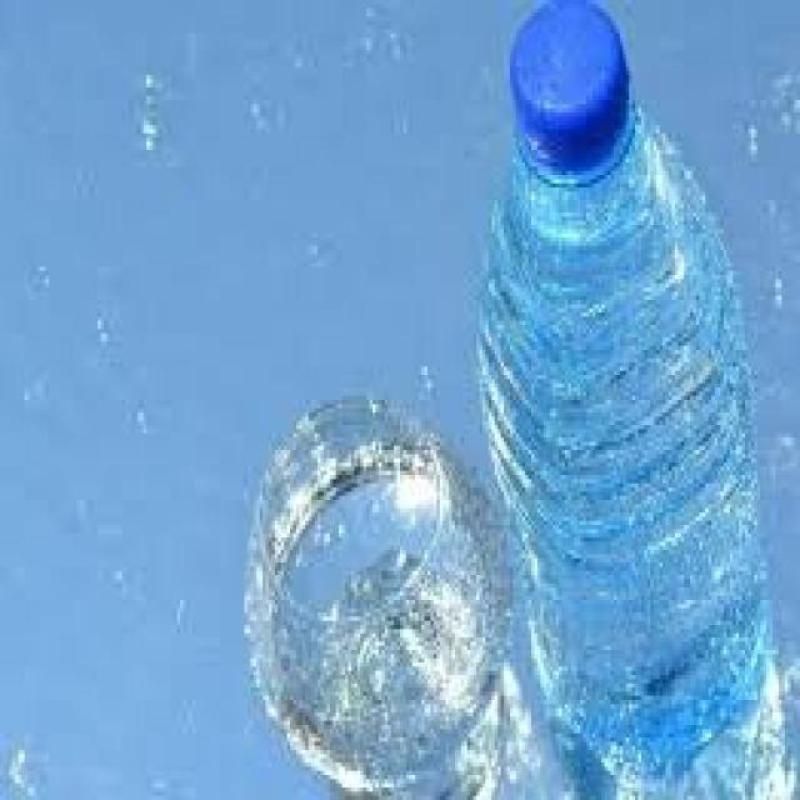botella: (478, 0, 747, 550)
